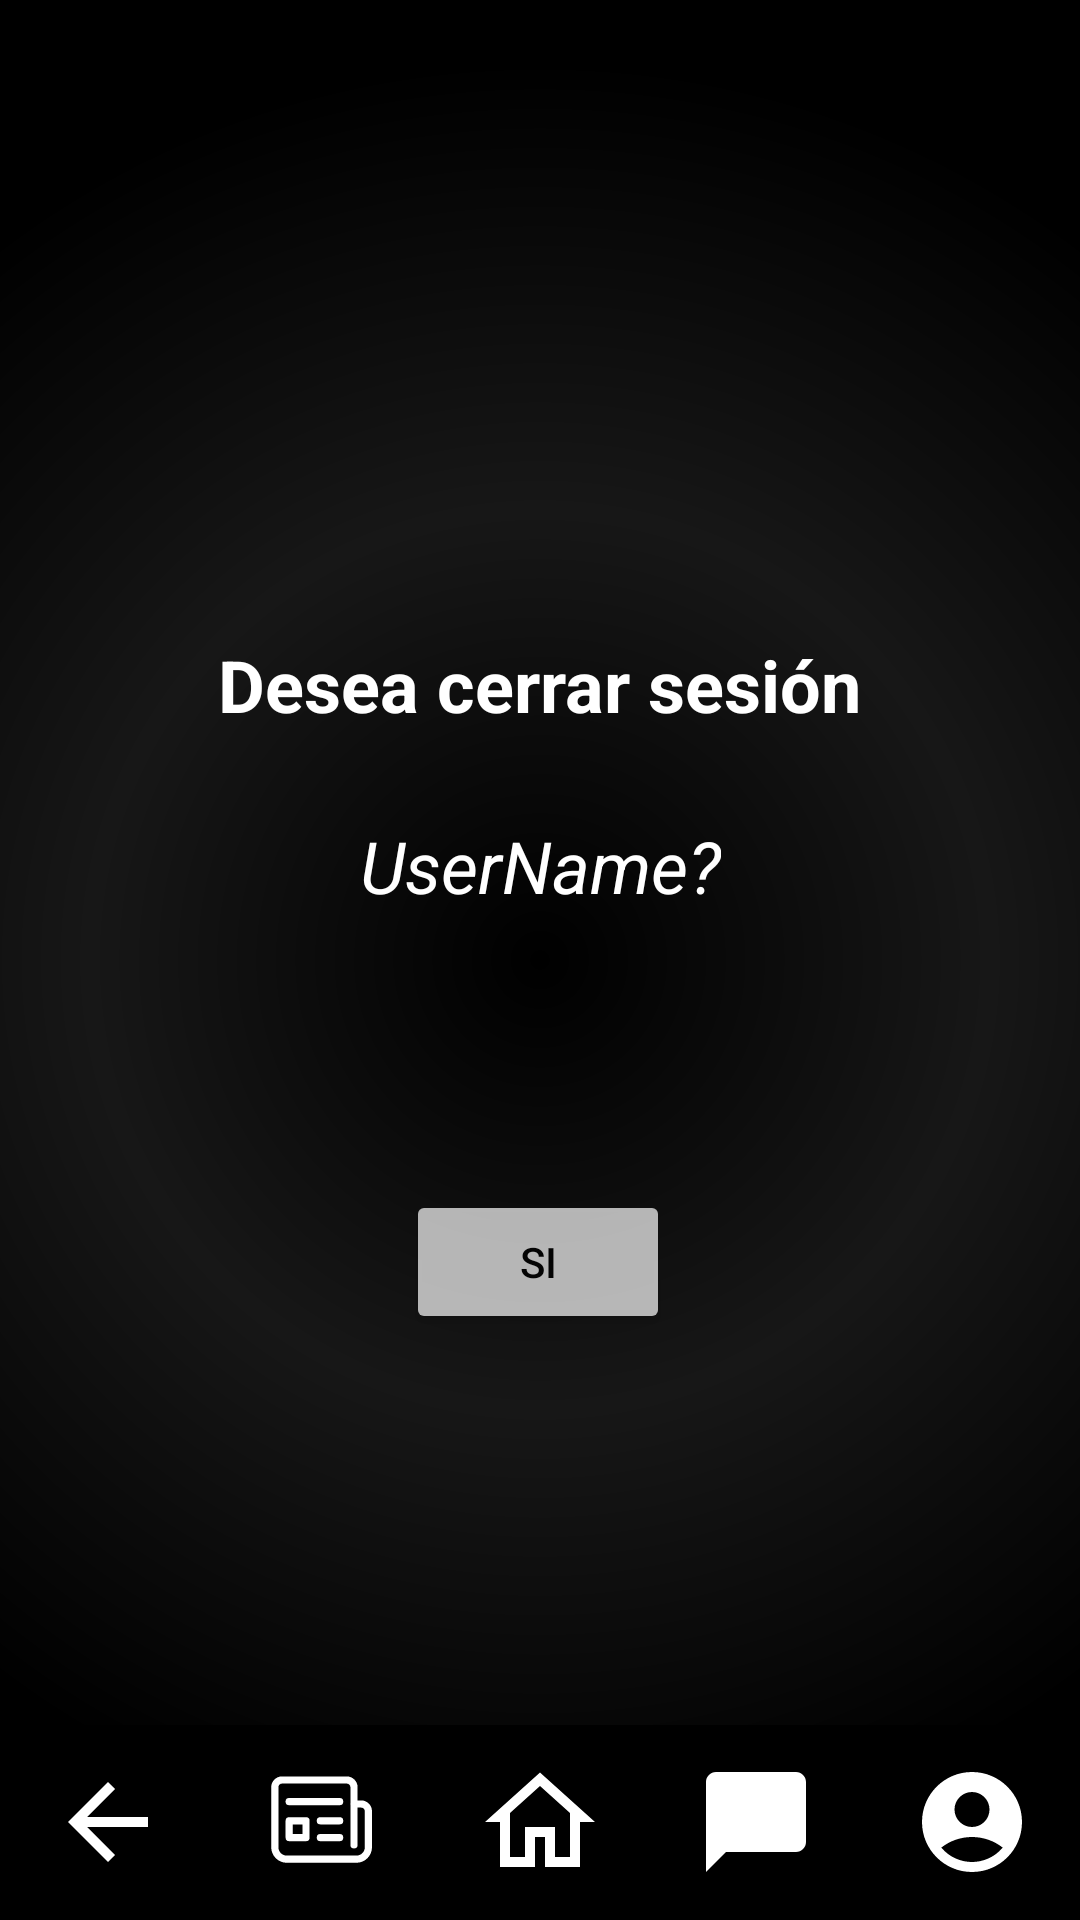

Locate icon controls on the screen. Image size 1080×1920, boxes as box=[x1, y1, x2, y2].
chats: box=[706, 1772, 806, 1872]
home: box=[485, 1772, 595, 1867]
news: box=[271, 1776, 372, 1863]
profile: box=[922, 1772, 1022, 1872]
